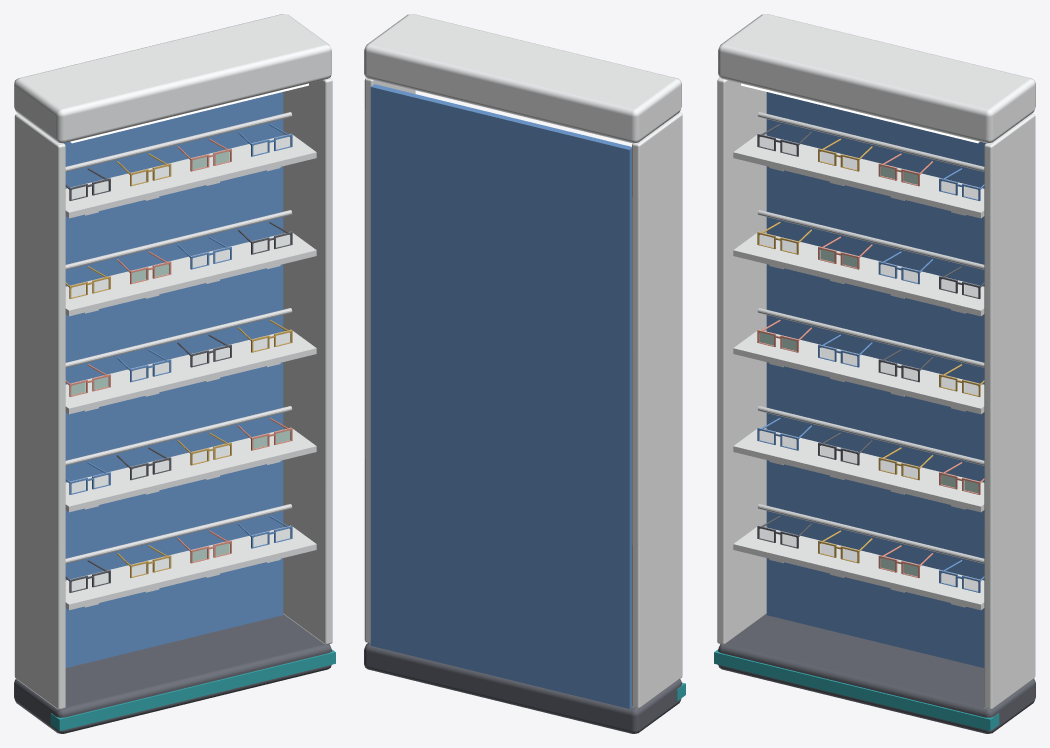
3 renders of one model, left to right at view 1: azimuth 30°, elevation 25°; view 2: azimuth 150°, elevation 25°; view 3: azimuth 330°, elevation 25°, orthographic.
Visible parts, largest first — view 1: frame-display-bay-blue; view 2: frame-display-bay-blue; view 3: frame-display-bay-blue.
Part boxes in pixels (x1,y1,x2,y2): frame-display-bay-blue: (14, 14, 335, 733); frame-display-bay-blue: (364, 14, 685, 733); frame-display-bay-blue: (714, 14, 1035, 733).
Bounding box in the file's own units: 1 × 2.17 × 0.3055.
